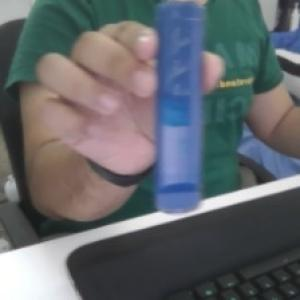Diamond-E-Ciggirate: (155, 1, 206, 216)
